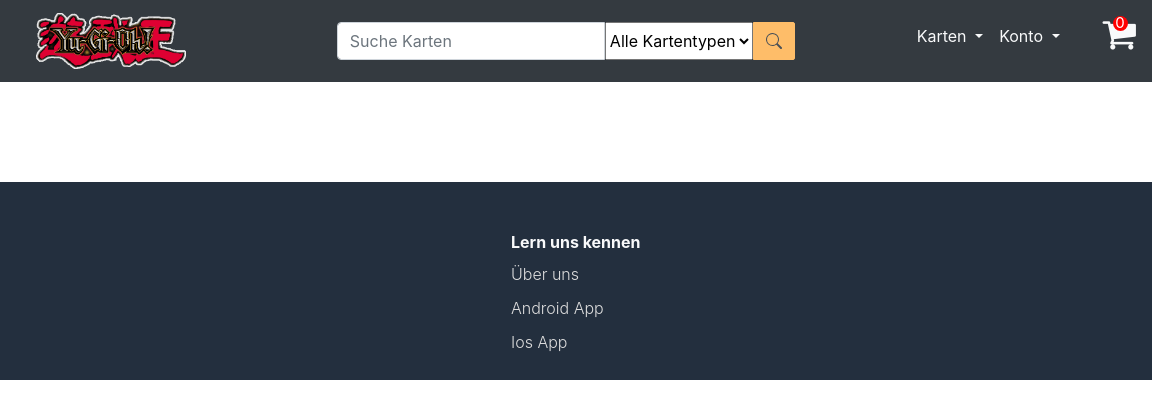
NavBar › should have elements in the "Karten" dropdown menu
Click the button "Karten" at (951, 36), box [909,16,992,56]
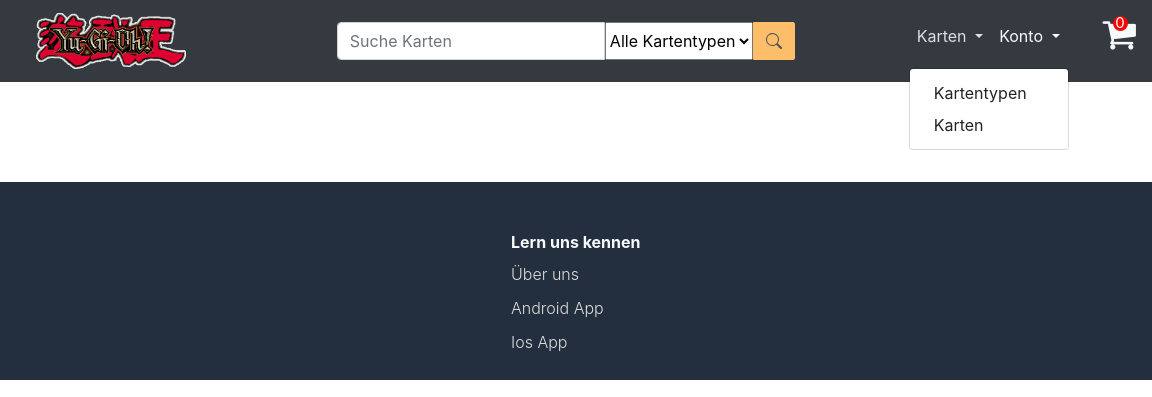
Now the link with class "dropdown-menu" reads "Kartentypen", box [934,83,1027,103]
Now the link with class "dropdown-menu" shows "Karten", box [934,83,1027,103]
